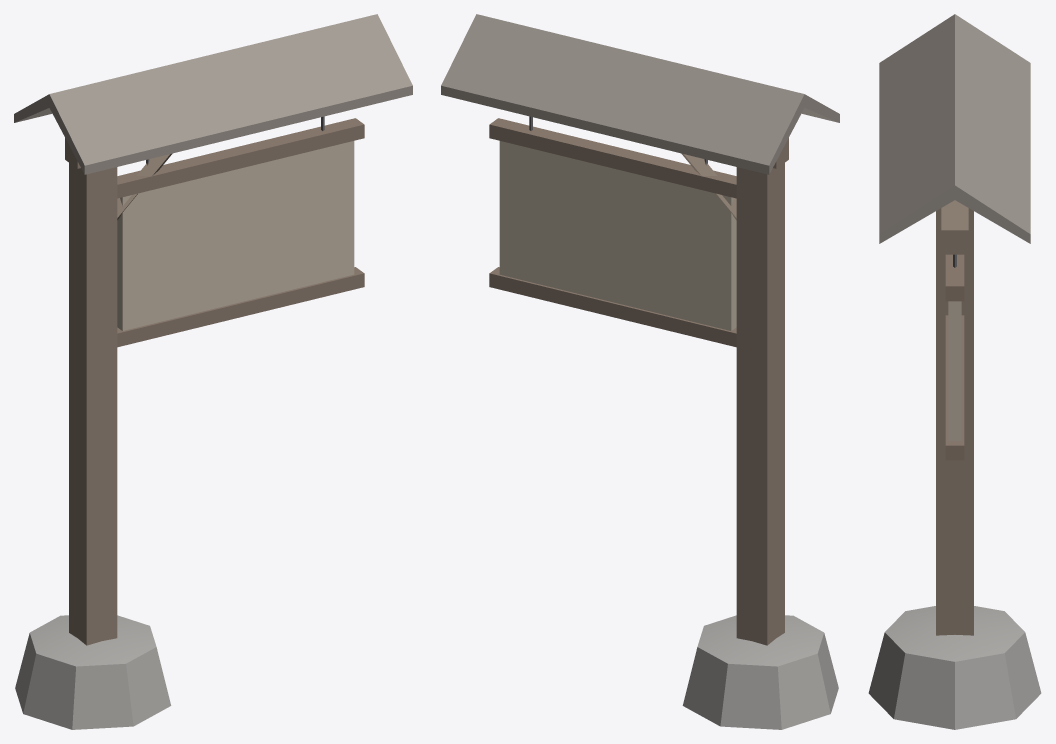
File: town_sign.gltf
3 views of the same model, side by side, from view 1: azimuth 30°, elevation 25°; view 2: azimuth 150°, elevation 25°; view 3: azimuth 270°, elevation 25° (orthographic). The views are drawn at different scales.
Visible parts, largest first — view 1: Body; view 2: Body; view 3: Body.
Part boxes in pixels (<box>): Body: <box>14,14,412,729</box>; Body: <box>441,14,839,729</box>; Body: <box>868,14,1041,729</box>.
Size of the model in its own units: 1.62 by 2.68 by 0.64.
